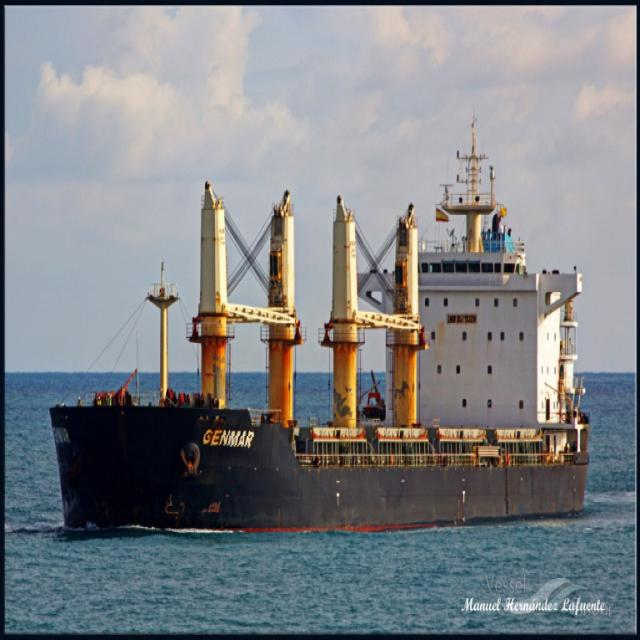OCR: (202, 420, 262, 451)
